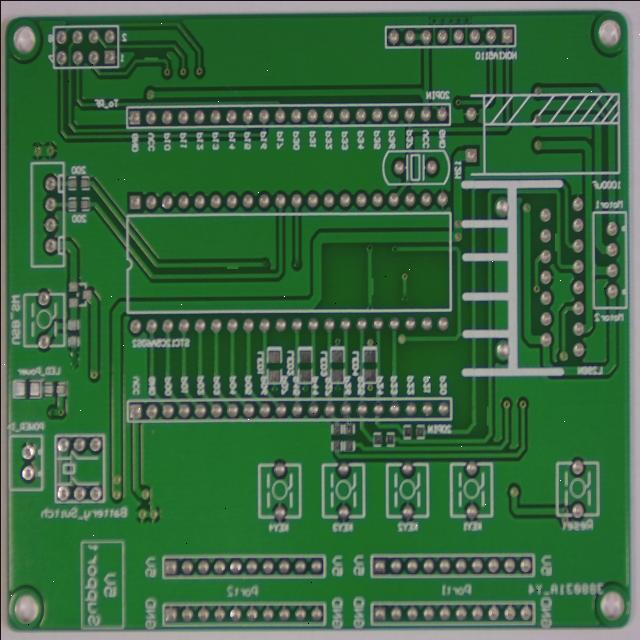spur: (376, 251, 391, 276), (145, 12, 166, 28), (500, 386, 510, 417), (573, 200, 582, 231), (231, 236, 249, 251)
